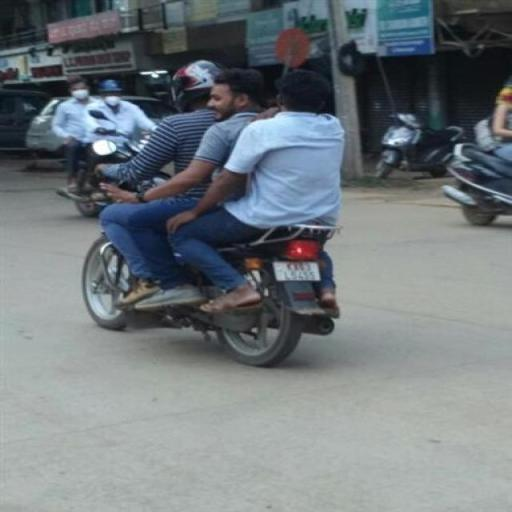tripple riding: (86, 56, 372, 239)
